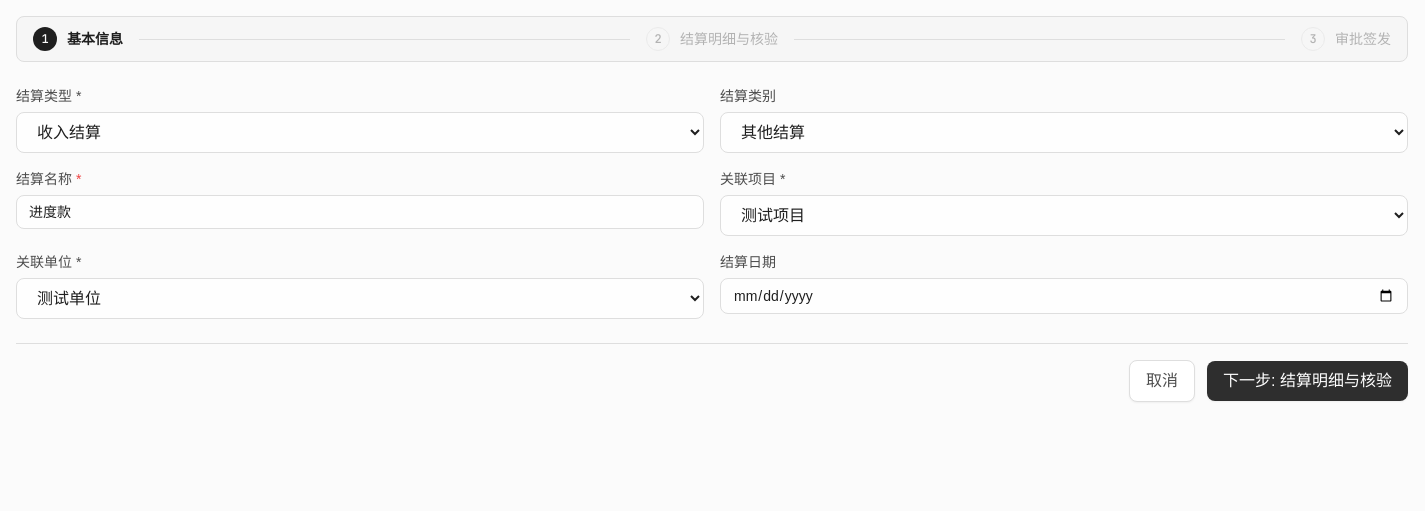
Test case: SettlementForm (S20) › 上一步可返回，编辑已有结算时提交按钮为"保存修改"
The width and height of the screenshot is (1425, 511).
Click the button "下一步: 结算明细与核验": (1308, 381) [1207,361,1408,401]
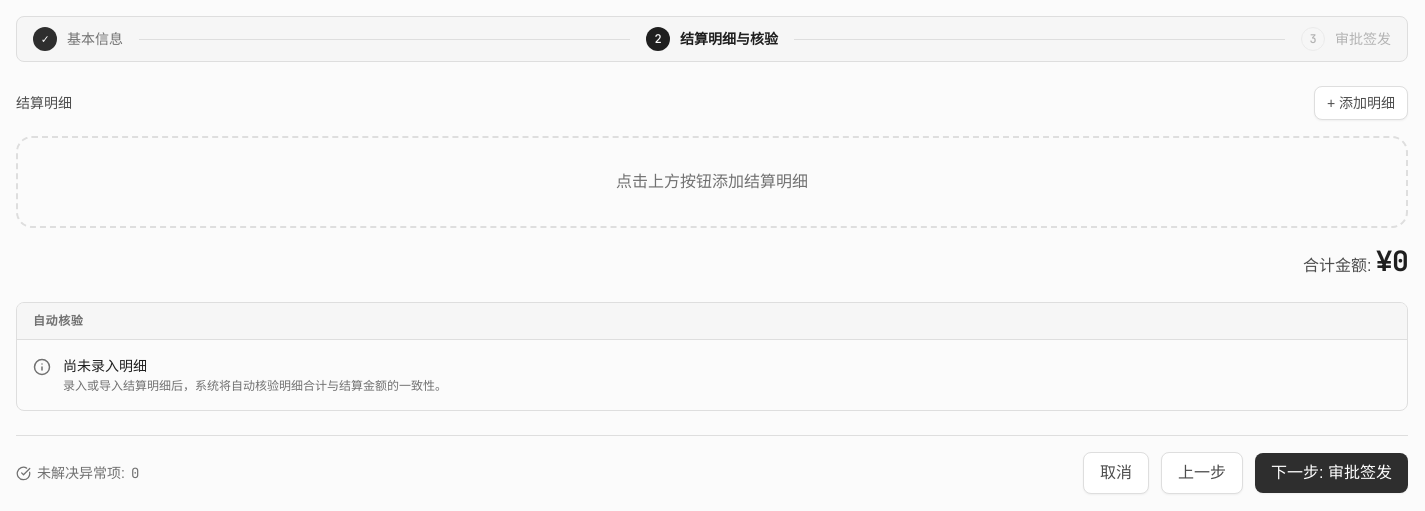
Click the button "下一步: 审批签发": (1332, 473) [1255,453,1408,493]
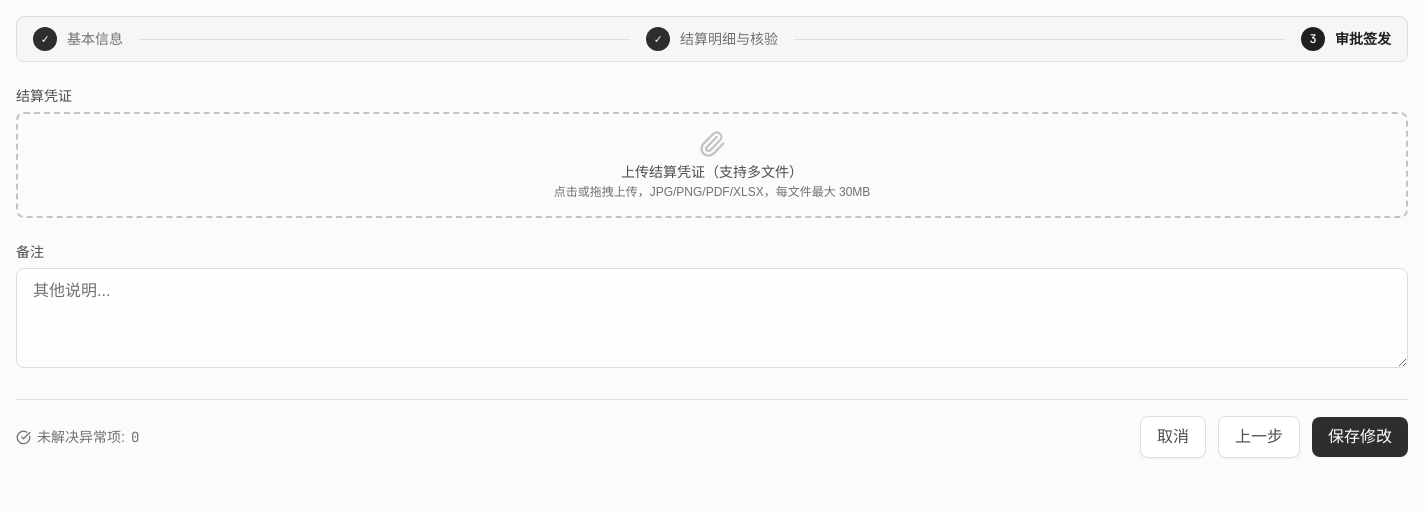
Result: the button "保存修改" is shown at [1312,417,1408,457]
Click the button "上一步": (1259, 437) [1218,416,1300,458]
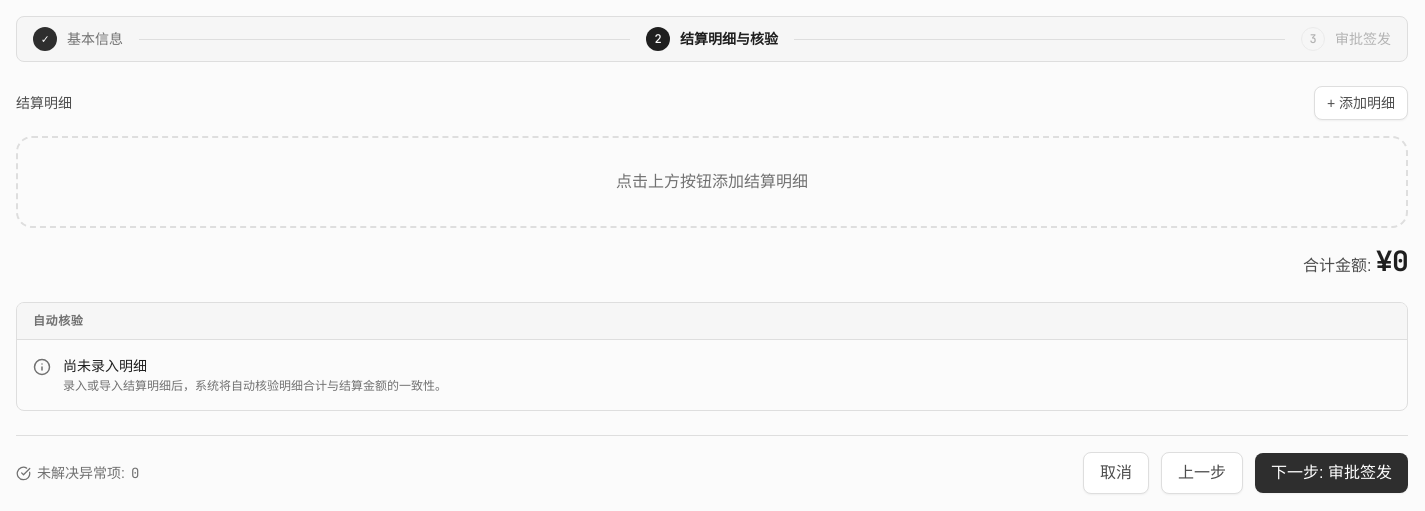
Result: the text "自动核验" is shown at [17,303,1407,340]
